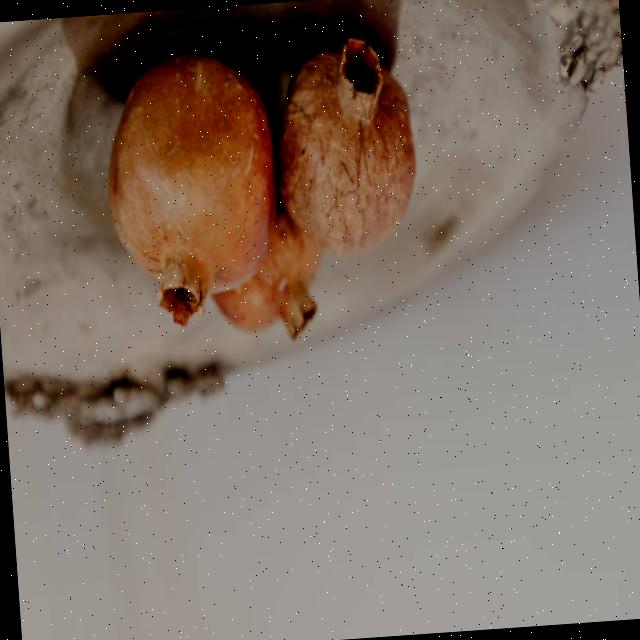overripe: (97, 44, 284, 334), (267, 30, 424, 261)
